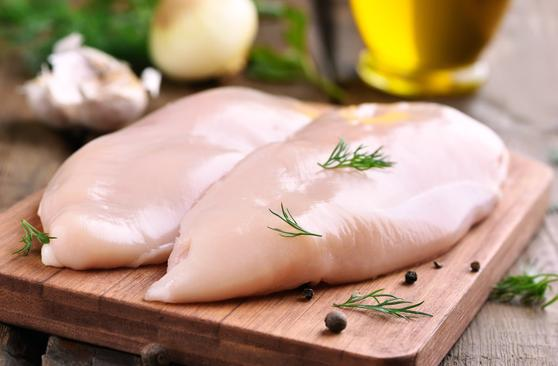chicken_fillet: (166, 102, 509, 314), (31, 80, 319, 273)
